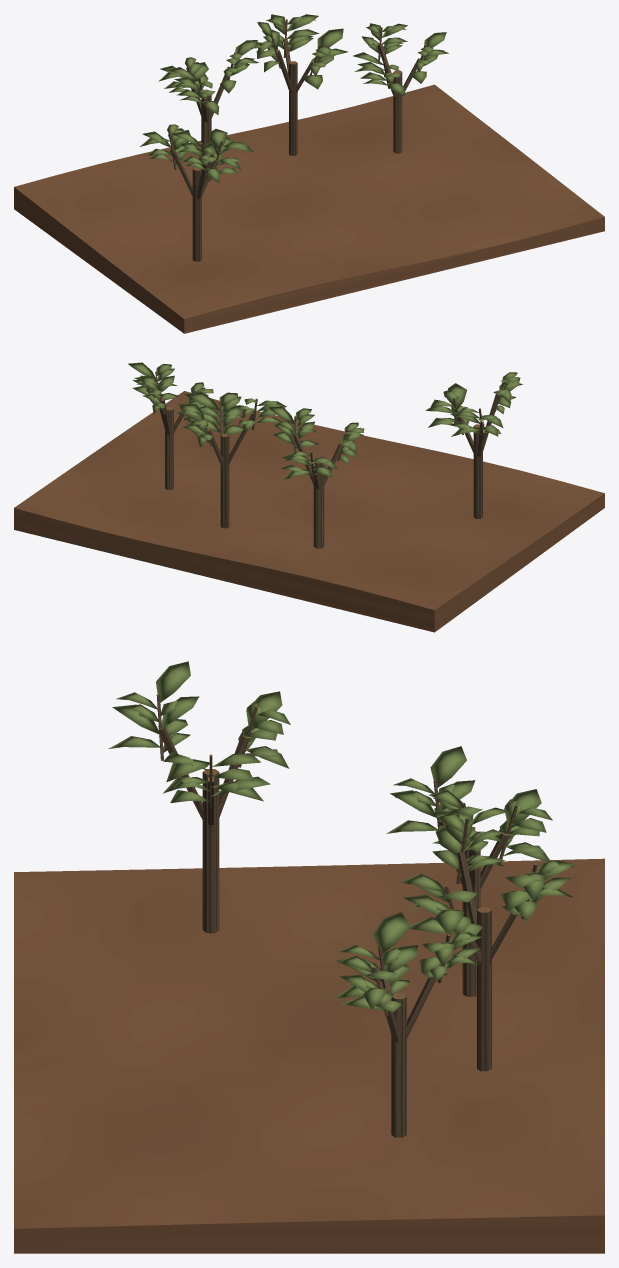
Rendered from sofia.glb.
The picture shows the model from 3 angles, top to bottom: view 1: azimuth 30°, elevation 25°; view 2: azimuth 150°, elevation 25°; view 3: azimuth 270°, elevation 25°; orthographic projection. The views are drawn at different scales.
Parts seen in each view (by area): view 1: sofia; view 2: sofia; view 3: sofia.
Part boxes in pixels (box(x1,y1,x2,y2)): sofia: box(14, 14, 604, 333); sofia: box(14, 362, 604, 632); sofia: box(14, 661, 604, 1253).
Bounding box in the file's own units: 7.33 × 2.6 × 5.14.
1 material, 1 textured.
